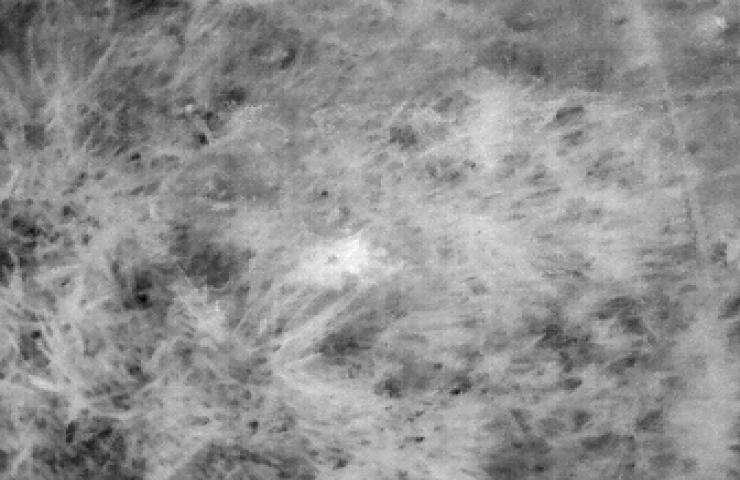landmines: (300, 172, 348, 216)
